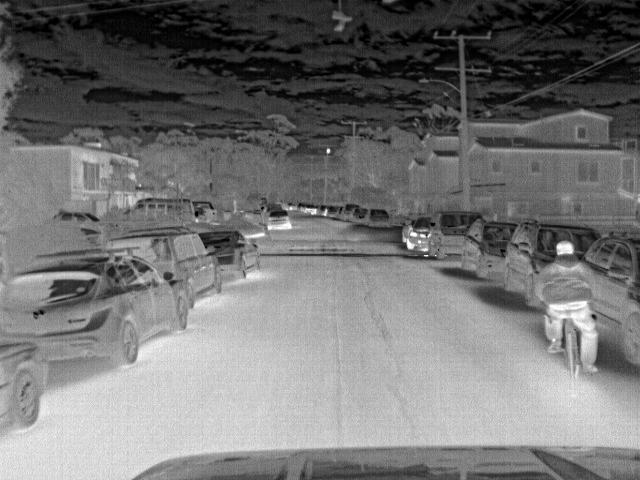car: (8, 250, 191, 370), (498, 220, 598, 305), (106, 226, 223, 298), (580, 228, 640, 366), (3, 337, 46, 438), (458, 220, 518, 278), (197, 230, 262, 279), (428, 213, 484, 259), (131, 198, 197, 218), (403, 218, 432, 252), (45, 210, 101, 223), (192, 199, 218, 224), (266, 210, 292, 230), (367, 207, 391, 228), (344, 201, 363, 222), (355, 208, 374, 225), (318, 206, 330, 218)
person: (540, 238, 598, 374)
